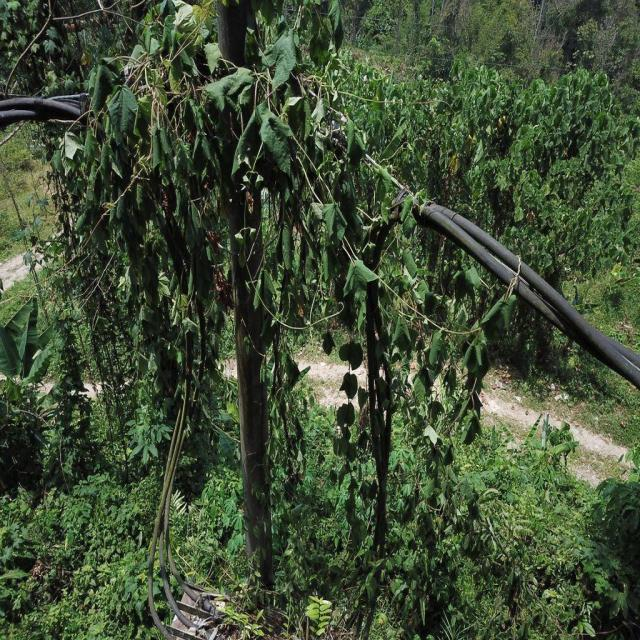critical vegetation: (53, 1, 428, 350)
